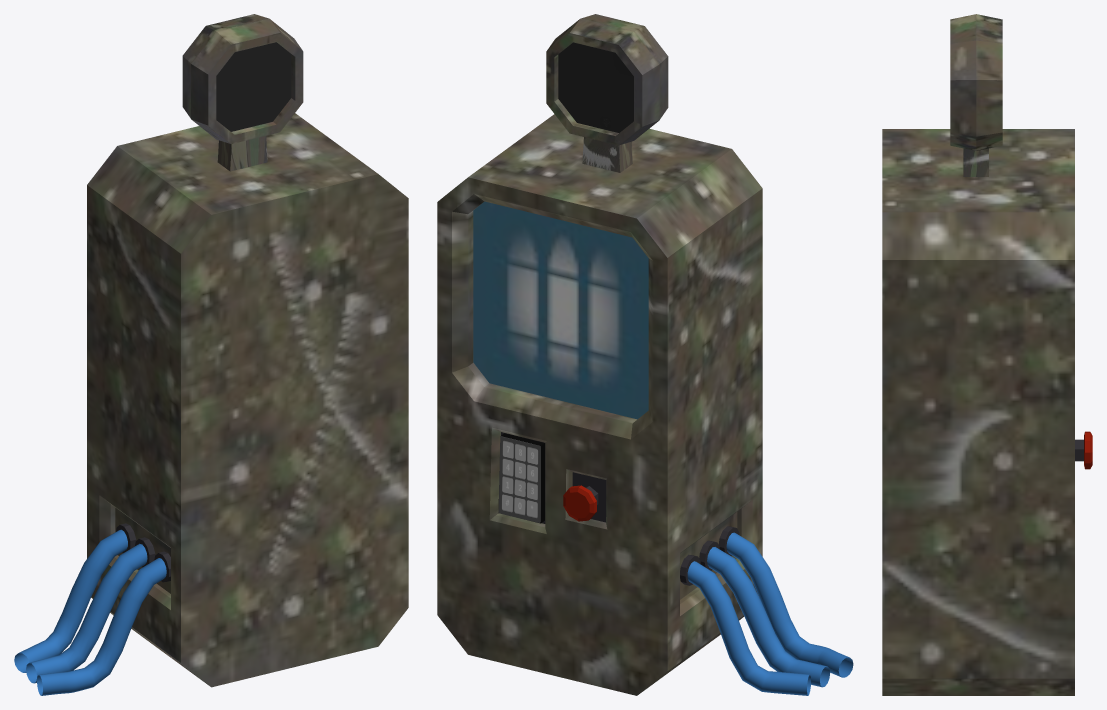
The model's file is AmmoMachine.obj.
The picture shows the model from 3 angles, left to right: view 1: azimuth 30°, elevation 25°; view 2: azimuth 150°, elevation 25°; view 3: azimuth 270°, elevation 25°; orthographic projection. The views are drawn at different scales.
Parts seen in each view (by area): view 1: Machine_Cube.002; view 2: Machine_Cube.002; view 3: Machine_Cube.002.
Part boxes in pixels (left/top/right/bottom): Machine_Cube.002: left=14, top=14, right=408, bottom=695; Machine_Cube.002: left=437, top=14, right=853, bottom=695; Machine_Cube.002: left=882, top=14, right=1092, bottom=695.
Bounding box in the file's own units: 7.73 × 13.19 × 4.03.
Materials: 7 (7 with a texture image).
